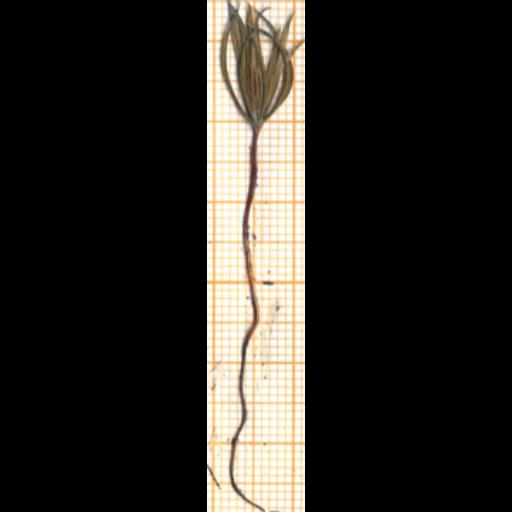flowerPinus: (219, 3, 303, 130)
rootPinus: (229, 279, 266, 511), (229, 283, 263, 511)
stemPinus: (241, 129, 259, 281)
